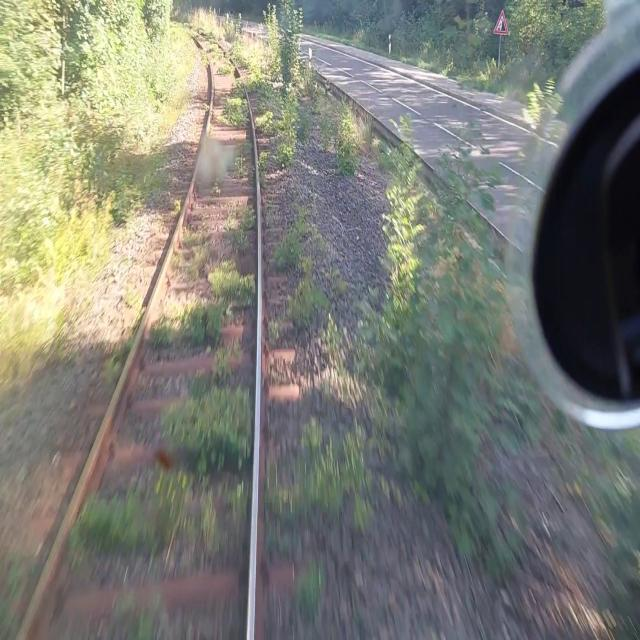Plant: (0, 98, 199, 639), (68, 377, 251, 570), (145, 258, 253, 377), (265, 414, 329, 561), (229, 49, 289, 167), (271, 218, 313, 329), (179, 25, 236, 76), (169, 223, 218, 280), (111, 586, 155, 639), (220, 196, 256, 258), (211, 76, 249, 126), (297, 553, 328, 613), (211, 153, 250, 198), (266, 316, 284, 344), (258, 149, 269, 187), (205, 103, 210, 113)
